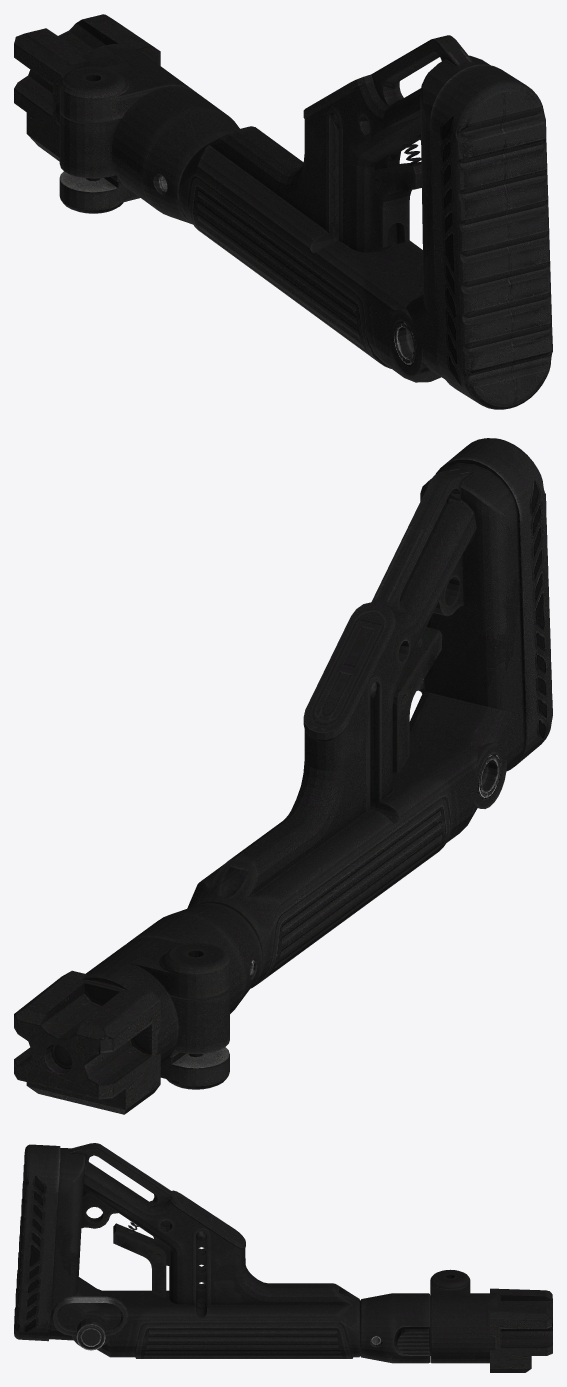
3 renders of one model, top to bottom at view 1: azimuth 30°, elevation 25°; view 2: azimuth 150°, elevation 25°; view 3: azimuth 270°, elevation 25°, orthographic. The views are drawn at different scales.
Parts seen in each view (by area): view 1: TW_5b04473a5acfc40018632f70_PZ_Import; view 2: TW_5b04473a5acfc40018632f70_PZ_Import; view 3: TW_5b04473a5acfc40018632f70_PZ_Import.
Part boxes in pixels (x1,y1,x2,y2): TW_5b04473a5acfc40018632f70_PZ_Import: (14,14,552,409); TW_5b04473a5acfc40018632f70_PZ_Import: (14,438,552,1114); TW_5b04473a5acfc40018632f70_PZ_Import: (14,1143,552,1372).
Bounding box in the file's own units: 0.0271 × 0.146 × 0.0657.
1 material, 1 textured.
